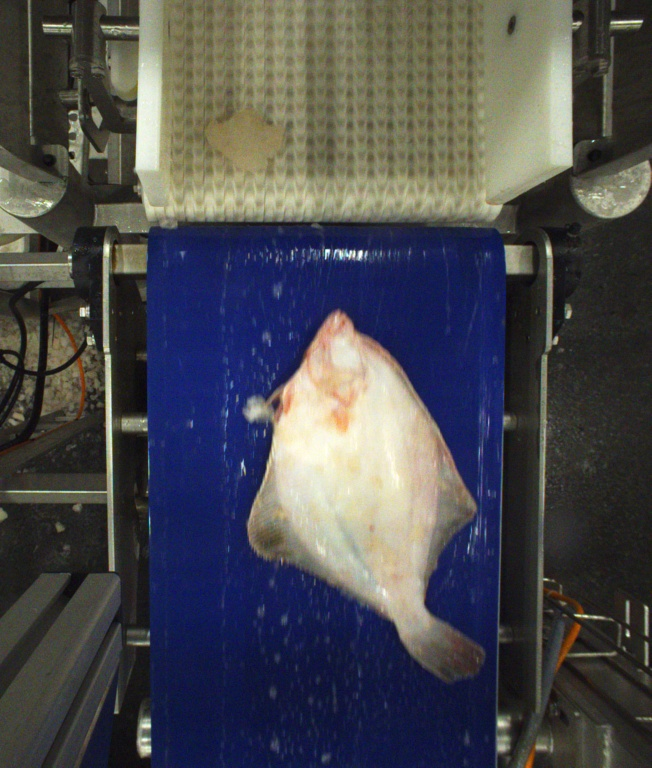PLE: (248, 309, 491, 683)
